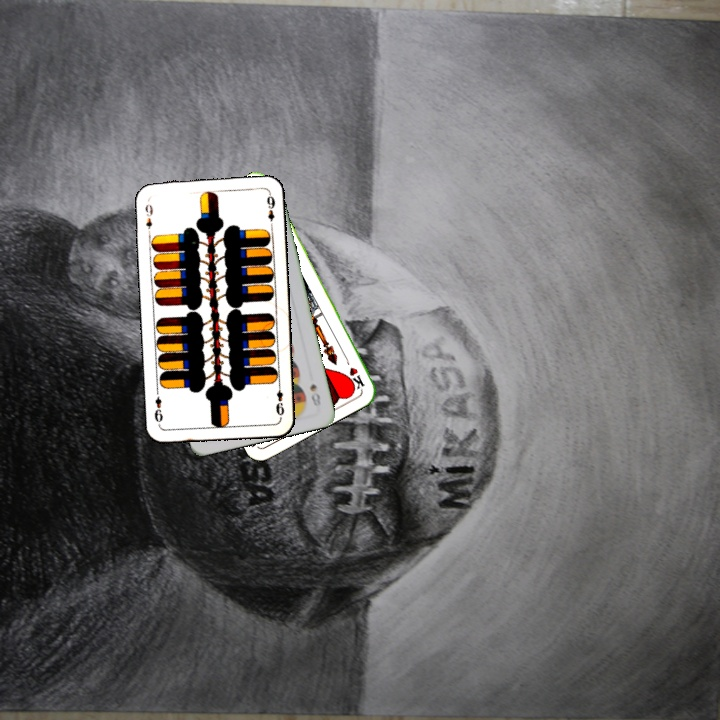E9: (272, 379, 287, 418), (141, 200, 155, 231)
HK: (341, 353, 367, 392)
S8: (306, 379, 323, 409)
